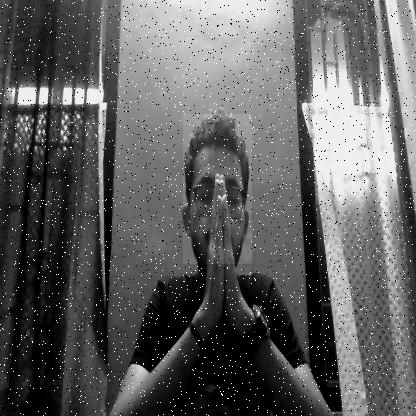Distracted: (183, 114, 252, 264)
